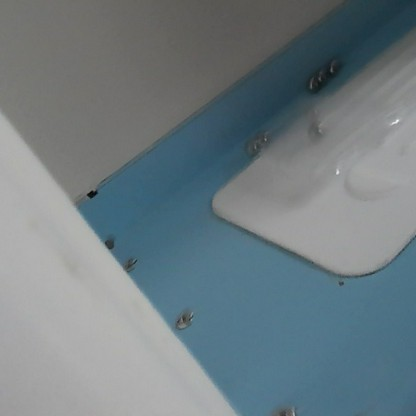ironball: (325, 55, 344, 77), (244, 139, 263, 159), (302, 75, 319, 94), (255, 129, 273, 146), (313, 67, 329, 86)
